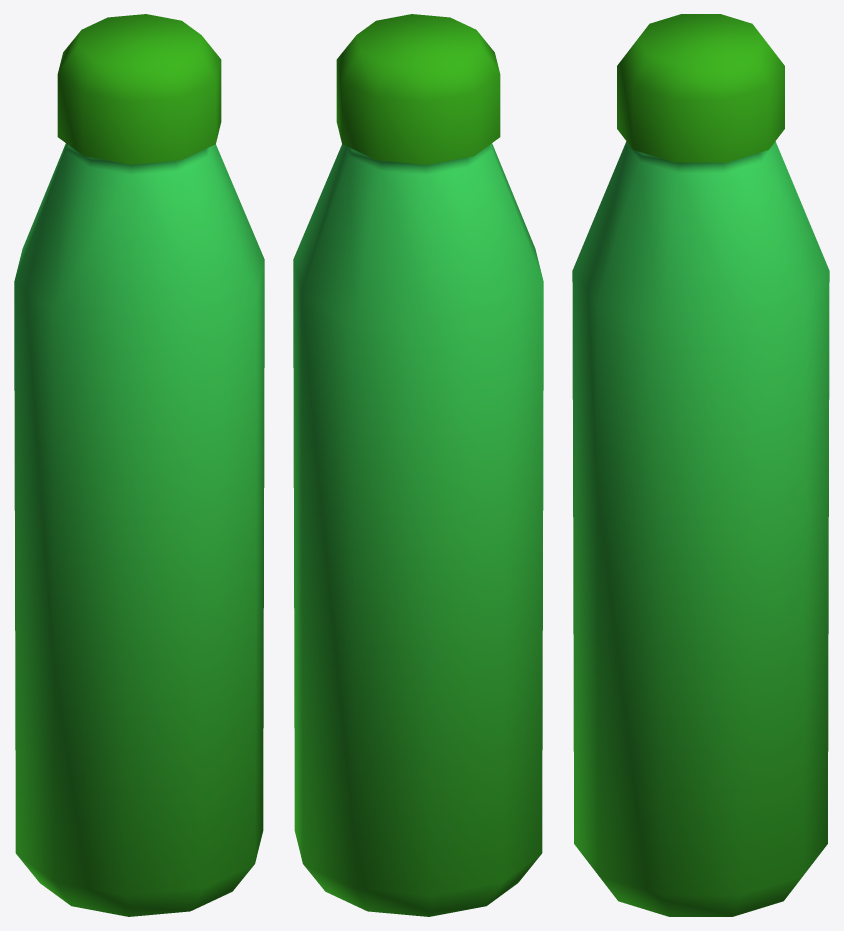
The model's file is bottle2_green.fbx.
3 views of the same model, side by side, from view 1: azimuth 30°, elevation 25°; view 2: azimuth 150°, elevation 25°; view 3: azimuth 270°, elevation 25° (orthographic).
Visible parts, largest first — view 1: bottle2_green; view 2: bottle2_green; view 3: bottle2_green.
Boxes of the visible parts, x1=… form: bottle2_green: x1=14, y1=14, x2=264, y2=916; bottle2_green: x1=293, y1=14, x2=543, y2=916; bottle2_green: x1=572, y1=14, x2=829, y2=916.
Bounding box in the file's own units: 49.11 × 185 × 51.63.
